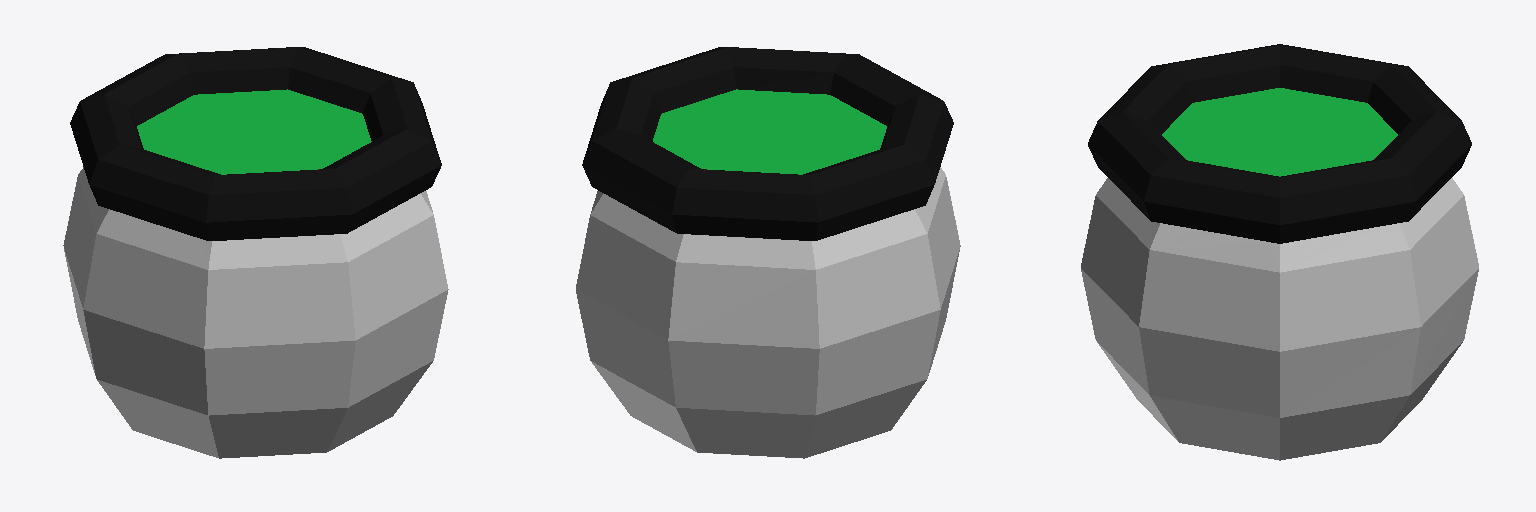
The model's file is cauldron1.obj.
3 views of the same model, side by side, from view 1: azimuth 30°, elevation 25°; view 2: azimuth 150°, elevation 25°; view 3: azimuth 270°, elevation 25° (orthographic).
Visible parts, largest first — view 1: Object.1; view 2: Object.1; view 3: Object.1.
Boxes of the visible parts, box(x1,y1,x2,y2) form: Object.1: box(63, 47, 448, 458); Object.1: box(576, 47, 960, 458); Object.1: box(1081, 44, 1478, 460).
Bounding box in the file's own units: 1 × 0.8 × 1.